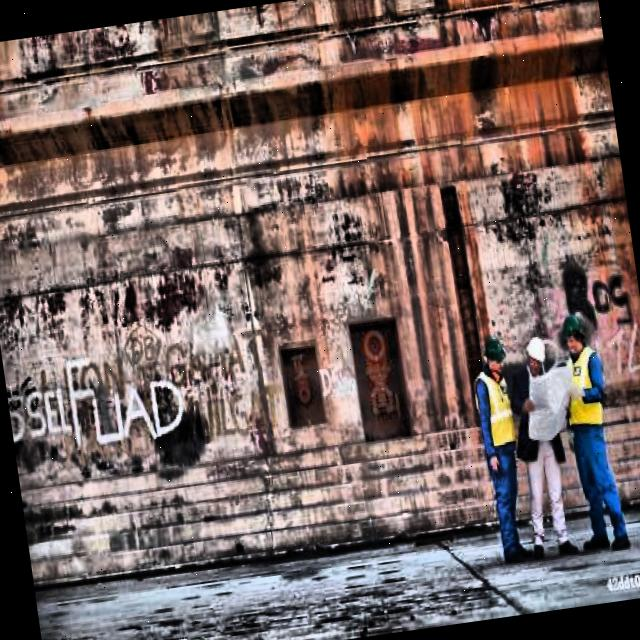helmet: (558, 313, 592, 360), (482, 336, 510, 377), (524, 334, 548, 375)
